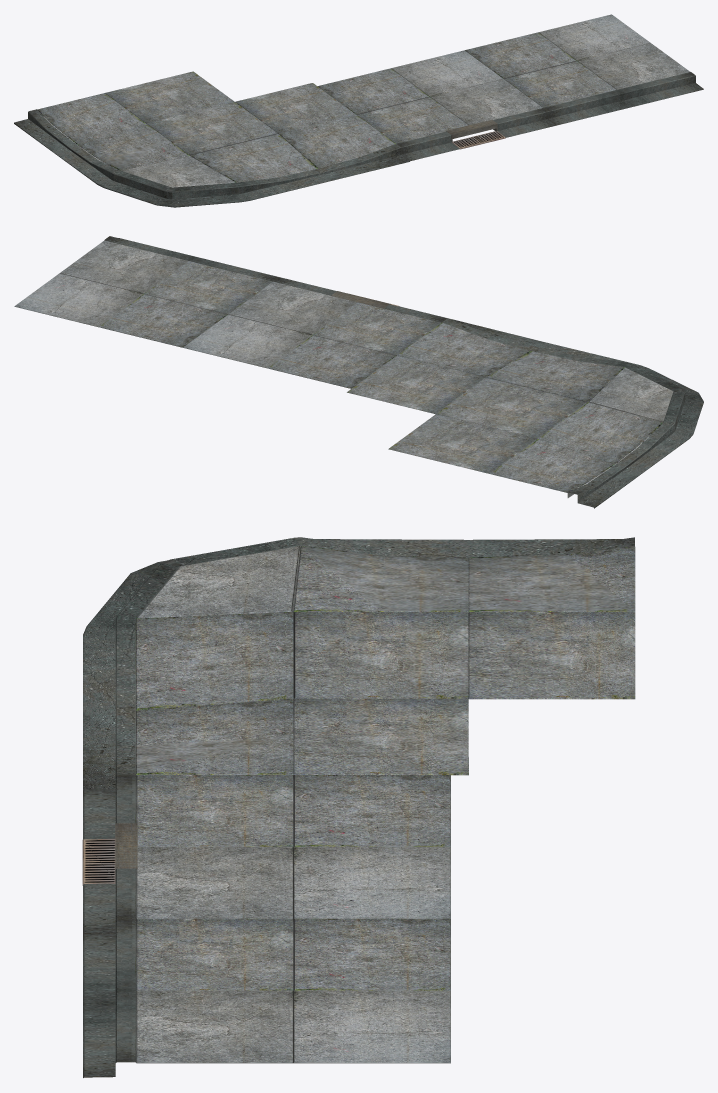
The model's file is sidewalk.glb.
The picture shows the model from 3 angles, top to bottom: view 1: azimuth 30°, elevation 25°; view 2: azimuth 150°, elevation 25°; view 3: azimuth 270°, elevation 25°; orthographic projection. The views are drawn at different scales.
Parts seen in each view (by area): view 1: pCube15, pCube7, pCube16, polySurface2, pCube2, pCube17, pCube12; view 2: pCube15, pCube7, pCube16, polySurface2, pCube2, pCube17; view 3: pCube15, pCube7, pCube16, polySurface2, pCube2, pCube17, pCube12.
Part boxes in pixels (<box>): pCube15: <box>37,71,395,187</box>; pCube7: <box>465,14,689,107</box>; pCube16: <box>317,50,542,143</box>; polySurface2: <box>14,109,409,207</box>; pCube2: <box>543,72,703,125</box>; pCube17: <box>396,108,556,161</box>; pCube12: <box>446,119,505,149</box>; pCube15: <box>347,322,673,492</box>; pCube7: <box>14,240,272,347</box>; pCube16: <box>183,281,441,388</box>; polySurface2: <box>442,318,703,508</box>; pCube2: <box>104,236,287,281</box>; pCube17: <box>273,277,456,322</box>; pCube15: <box>136,546,635,775</box>; pCube7: <box>136,918,450,1063</box>; pCube16: <box>136,775,450,918</box>; polySurface2: <box>83,537,634,790</box>; pCube2: <box>83,918,136,1077</box>; pCube17: <box>83,774,136,934</box>; pCube12: <box>82,823,137,885</box>.
Bounding box in the file's own units: 47.44 × 0.7437 × 20.56.
2 materials, 2 textured.
